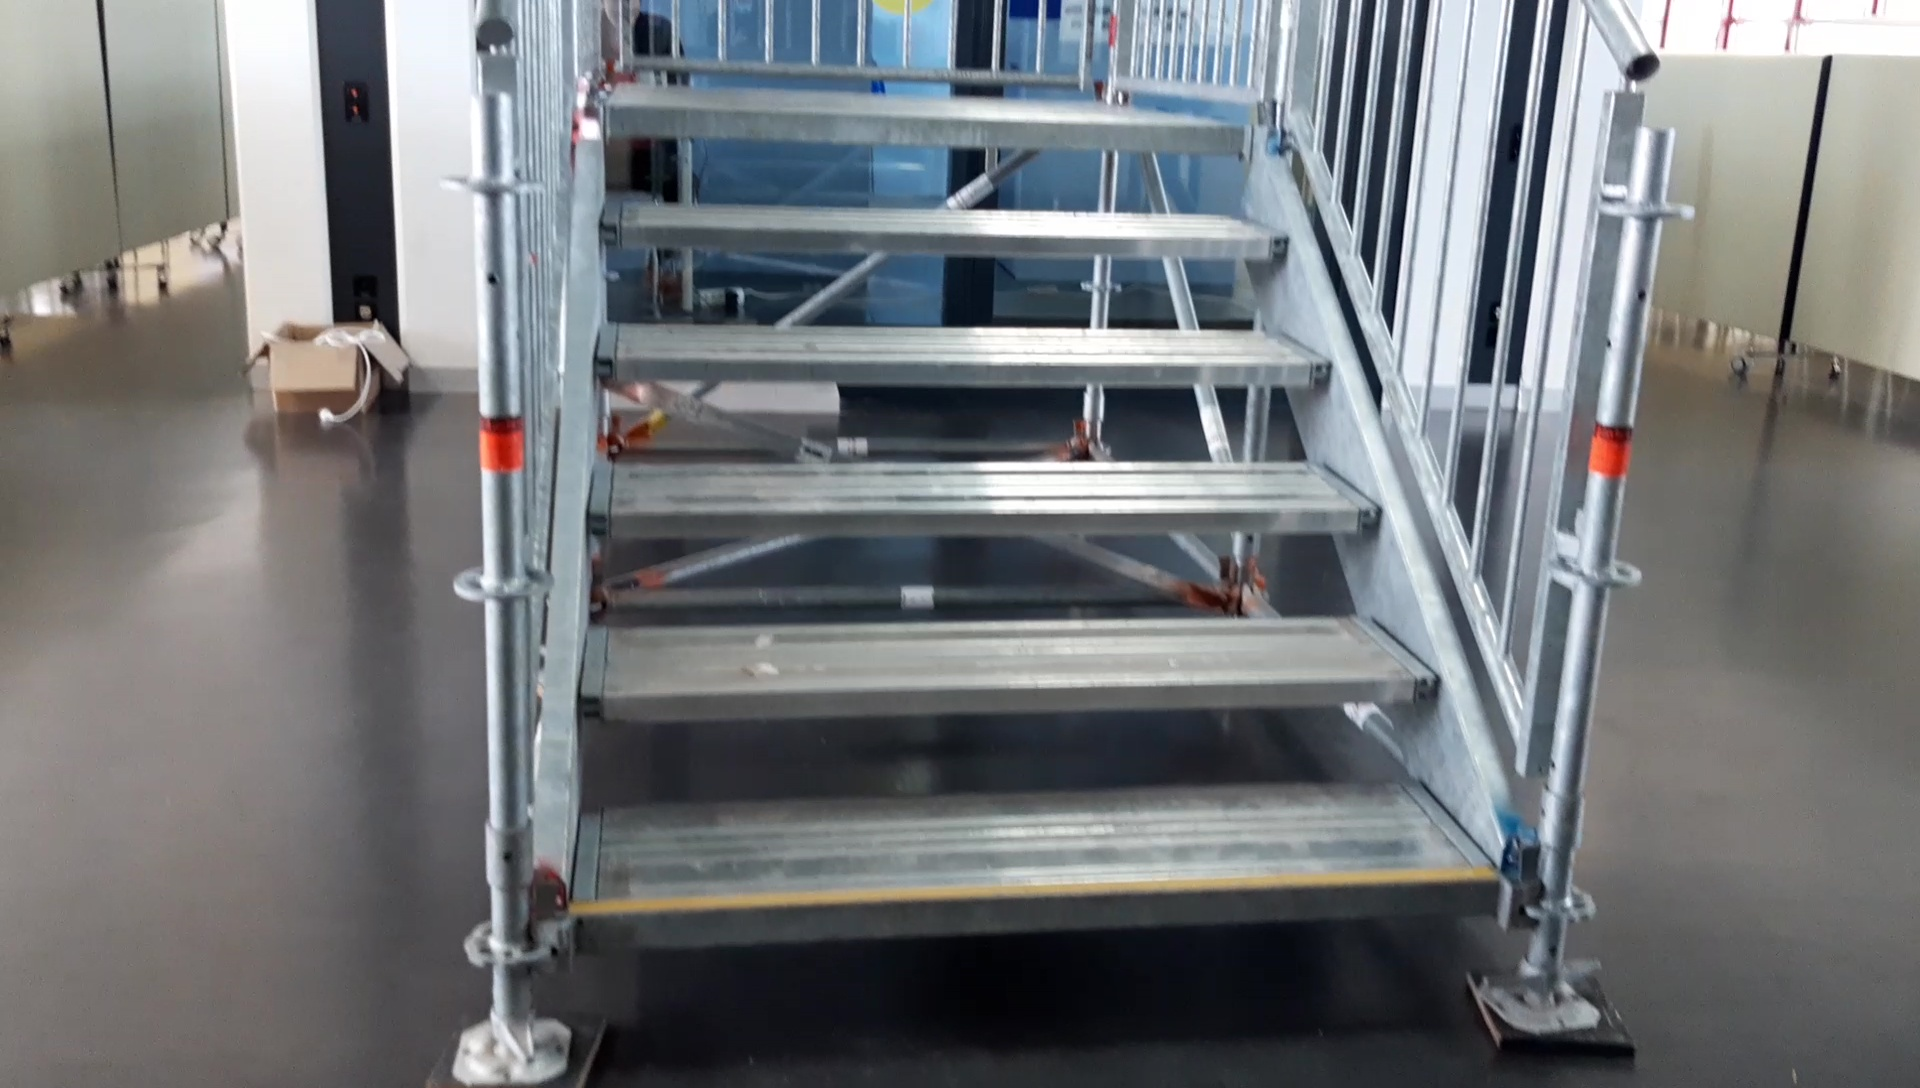edge: (578, 876, 1501, 946), (574, 675, 1437, 721), (607, 102, 1251, 150), (584, 502, 1379, 538), (597, 222, 1290, 260), (585, 352, 1332, 382)
stairs: (427, 5, 1638, 1073)
steps: (572, 98, 1505, 968)
